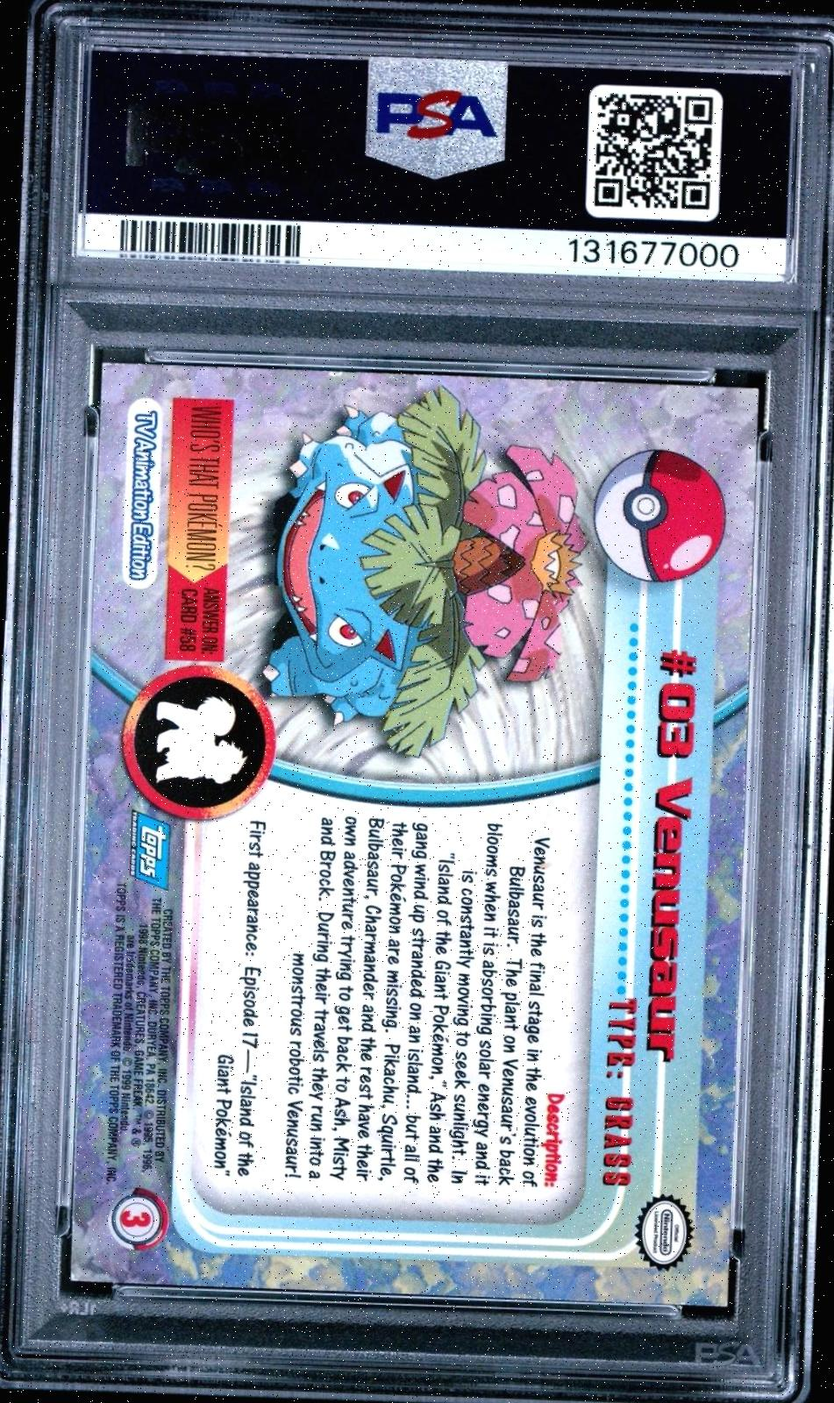card-2UtV: (69, 361, 759, 1307)
